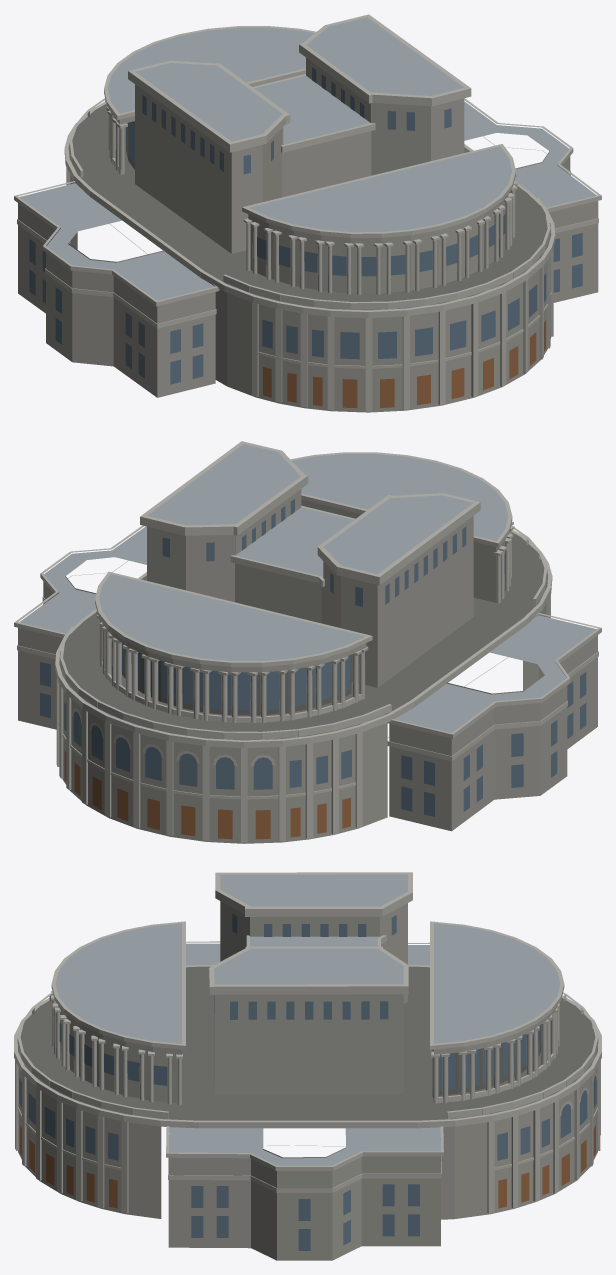
The model's file is yerevan-opera.glb.
3 renders of one model, top to bottom at view 1: azimuth 30°, elevation 25°; view 2: azimuth 150°, elevation 25°; view 3: azimuth 270°, elevation 25°, orthographic. The views are drawn at different scales.
Parts seen in each view (by area): view 1: Armenian National Opera and Ballet Theatre; view 2: Armenian National Opera and Ballet Theatre; view 3: Armenian National Opera and Ballet Theatre.
Part boxes in pixels (bbox=[...]): Armenian National Opera and Ballet Theatre: bbox=[14, 14, 601, 412]; Armenian National Opera and Ballet Theatre: bbox=[14, 441, 601, 843]; Armenian National Opera and Ballet Theatre: bbox=[14, 872, 601, 1260].
Size of the model in its own units: 102 by 42 by 106.
